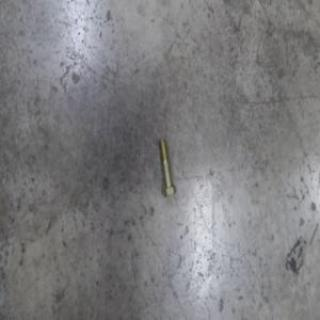Bolttrack_idkeyframe: (157, 137, 176, 198)
